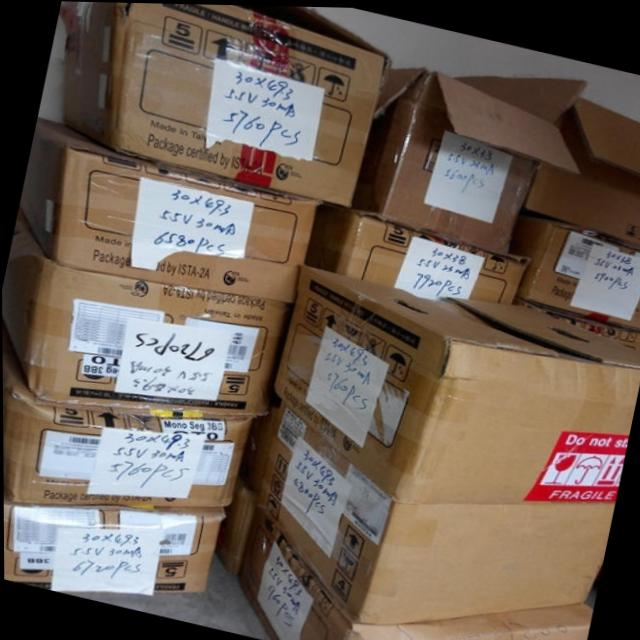box: (271, 265, 640, 502), (258, 400, 614, 624), (59, 1, 392, 205), (2, 206, 291, 414), (18, 116, 318, 303), (234, 502, 592, 640), (2, 318, 254, 504), (349, 65, 587, 254), (3, 479, 224, 591), (305, 200, 531, 301), (521, 92, 640, 243), (508, 206, 640, 327), (528, 299, 640, 350), (214, 478, 261, 576), (239, 404, 281, 494)
